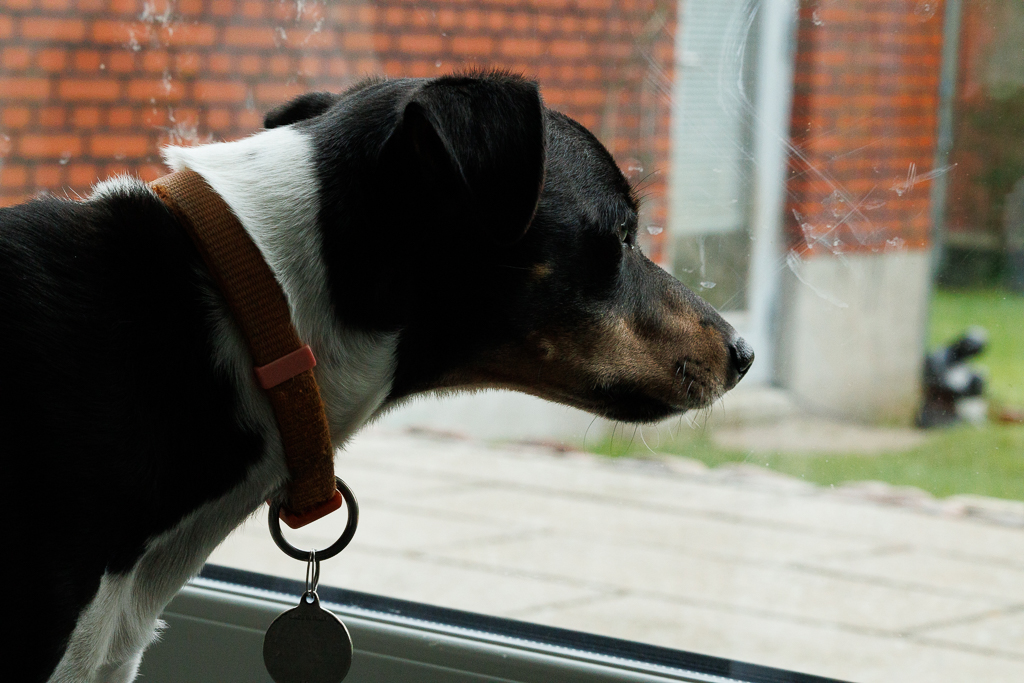Dog: (0, 61, 765, 683)
Humanoid: (912, 316, 1004, 445)
